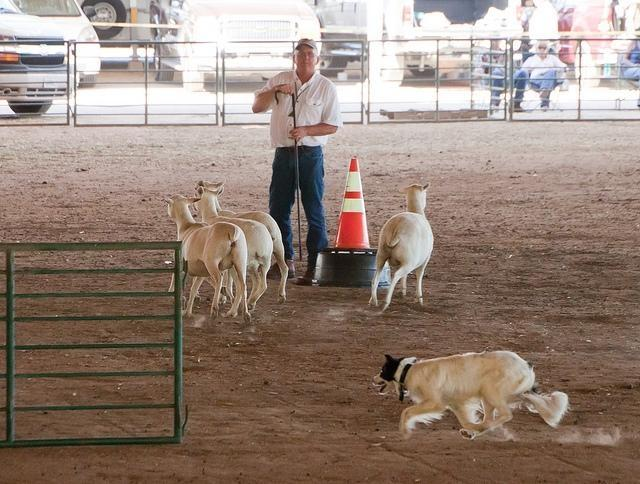car: (150, 0, 321, 94), (0, 0, 68, 118), (12, 0, 102, 88), (560, 0, 622, 86), (310, 0, 374, 75), (75, 1, 156, 48)
